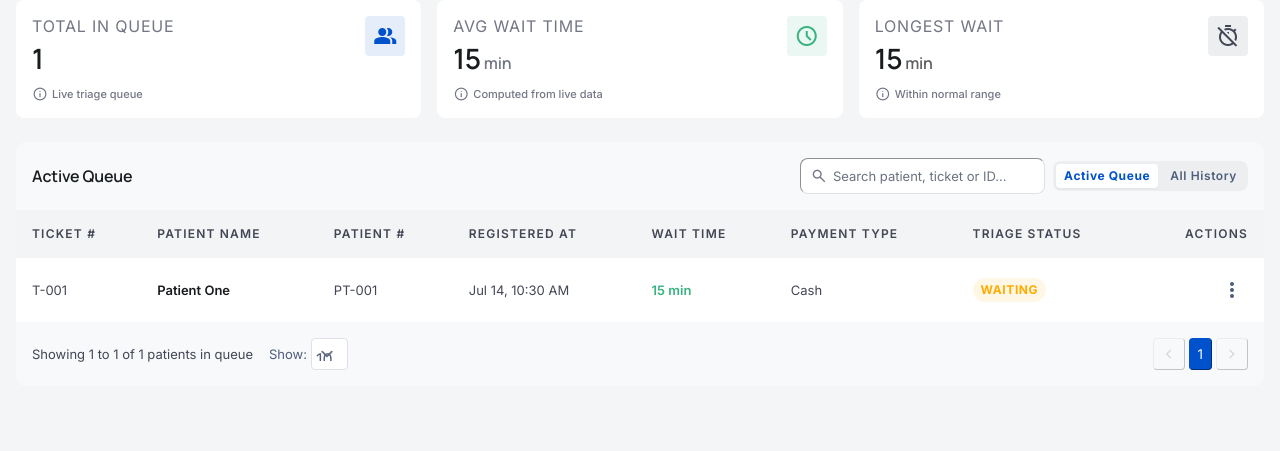
Scenario: VisitQueuePage › filters between active queue and all history
The image size is (1280, 451).
Check: the text "Patient One" is shown, box [141,258,318,322]
Step 1. Click the button "All History" → (1204, 176), box [1162,164,1245,188]
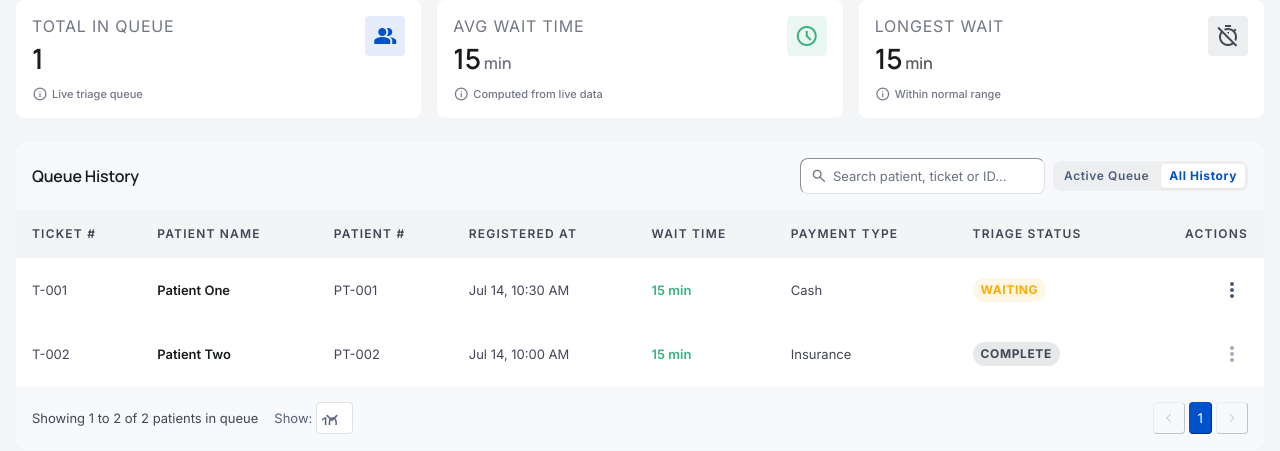
Check: the text "Patient One" is shown, box [141,258,318,322]
Check: the text "Patient Two" is shown, box [141,322,318,386]
